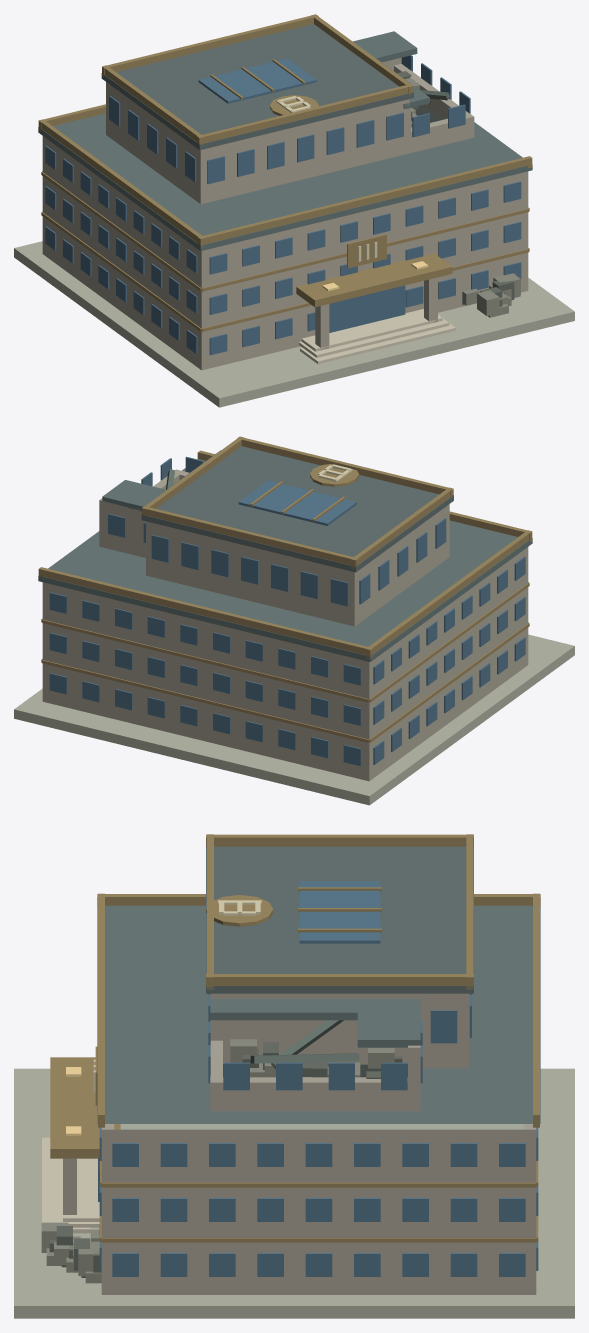
Rendered from bank-ruined.glb.
3 views of the same model, one above another, from view 1: azimuth 30°, elevation 25°; view 2: azimuth 150°, elevation 25°; view 3: azimuth 270°, elevation 25° (orthographic). The views are drawn at different scales.
Visible parts, largest first — view 1: bank-main, bank-upper, bank-plinth, bank-main-windows, bank-entrance, bank-upper-windows, bank-east-bay, bank-roof-glass, bank-entry-glass, bank-emblem, bank-exterior-rubble, bank-east-bay-windows; view 2: bank-main, bank-upper, bank-main-windows, bank-plinth, bank-upper-windows, bank-east-bay, bank-roof-glass, bank-east-bay-windows, bank-emblem; view 3: bank-main, bank-upper, bank-plinth, bank-east-bay, bank-main-windows, bank-entrance, bank-roof-glass, bank-east-bay-windows, bank-exterior-rubble, bank-east-bay-collapse, bank-emblem, bank-upper-windows.
Boxes of the visible parts, left/top/right/bottom form: bank-main: left=38, top=104, right=532, bottom=370; bank-upper: left=101, top=14, right=413, bottom=204; bank-plinth: left=14, top=241, right=574, bottom=407; bank-main-windows: left=45, top=145, right=521, bottom=355; bank-entrance: left=210, top=59, right=455, bottom=364; bank-upper-windows: left=109, top=96, right=403, bottom=184; bank-east-bay: left=353, top=31, right=474, bottom=154; bank-roof-glass: left=198, top=58, right=316, bottom=103; bank-entry-glass: left=329, top=285, right=405, bottom=332; bank-emblem: left=270, top=95, right=386, bottom=268; bank-exterior-rubble: left=462, top=273, right=520, bottom=317; bank-east-bay-windows: left=401, top=55, right=470, bottom=137; bank-main: left=38, top=450, right=532, bottom=781; bank-upper: left=141, top=436, right=453, bottom=626; bank-main-windows: left=49, top=556, right=525, bottom=766; bank-plinth: left=14, top=634, right=574, bottom=805; bank-upper-windows: left=151, top=518, right=446, bottom=606; bank-east-bay: left=99, top=450, right=220, bottom=557; bank-roof-glass: left=238, top=480, right=356, bottom=525; bank-east-bay-windows: left=108, top=456, right=203, bottom=542; bank-emblem: left=310, top=464, right=359, bottom=486; bank-main: left=97, top=893, right=540, bottom=1294; bank-upper: left=206, top=834, right=473, bottom=1068; bank-plinth: left=14, top=1068, right=574, bottom=1318; bank-east-bay: left=210, top=999, right=420, bottom=1111; bank-main-windows: left=99, top=1127, right=538, bottom=1276; bank-entrance: left=42, top=887, right=381, bottom=1233; bank-roof-glass: left=299, top=881, right=380, bottom=943; bank-east-bay-windows: left=208, top=1021, right=422, bottom=1090; bank-exterior-rubble: left=41, top=1222, right=101, bottom=1283; bank-east-bay-collapse: left=230, top=1039, right=402, bottom=1078; bank-emblem: left=93, top=895, right=273, bottom=1105; bank-upper-windows: left=208, top=993, right=471, bottom=1043.
Size of the model in its own units: 8 by 4.42 by 8.
